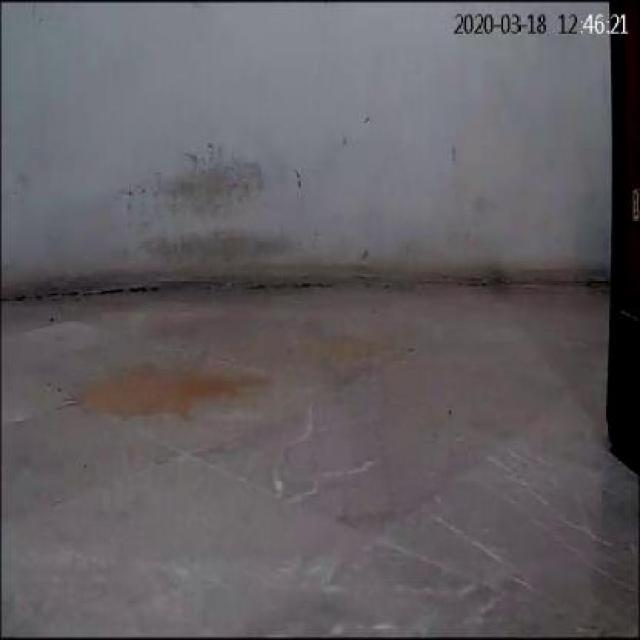spill: (80, 368, 274, 418)
